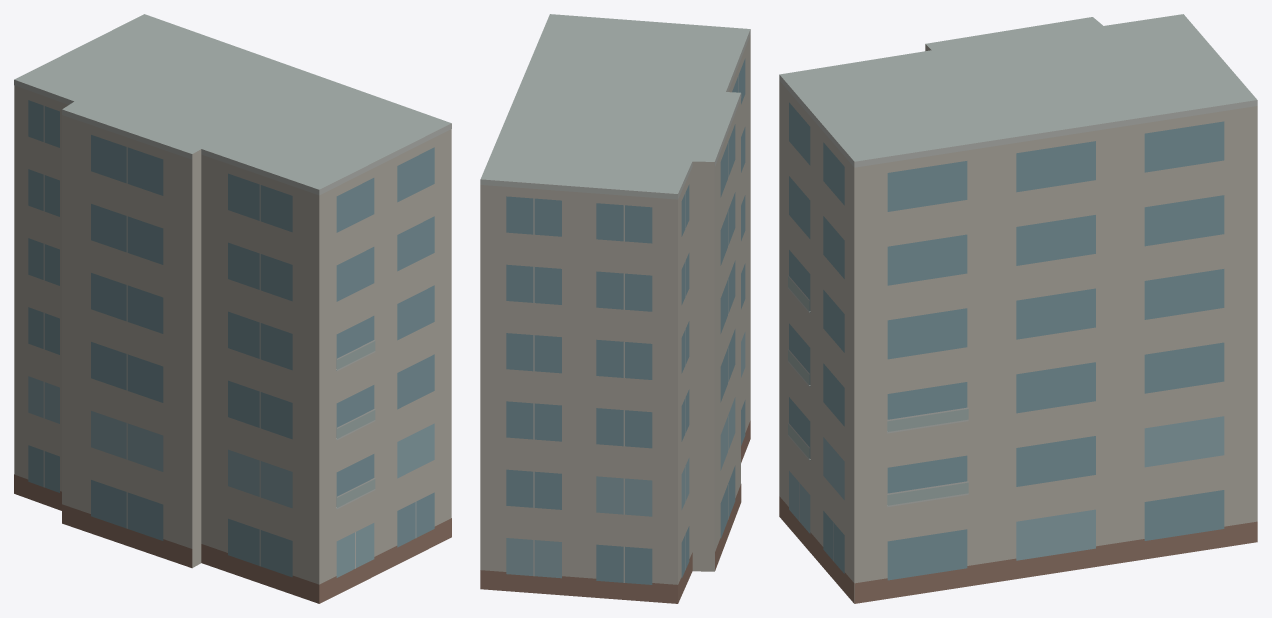
The model's file is survey-upis-32748150.glb.
3 views of the same model, side by side, from view 1: azimuth 30°, elevation 25°; view 2: azimuth 150°, elevation 25°; view 3: azimuth 270°, elevation 25° (orthographic). The views are drawn at different scales.
Parts seen in each view (by area): view 1: survey-upis-32748150.tmp; view 2: survey-upis-32748150.tmp; view 3: survey-upis-32748150.tmp.
Boxes of the visible parts, left/top/right/bottom form: survey-upis-32748150.tmp: left=14, top=14, right=451, bottom=603; survey-upis-32748150.tmp: left=480, top=14, right=750, bottom=603; survey-upis-32748150.tmp: left=779, top=14, right=1257, bottom=603.
Size of the model in its own units: 12.98 by 18.1 by 17.75.
